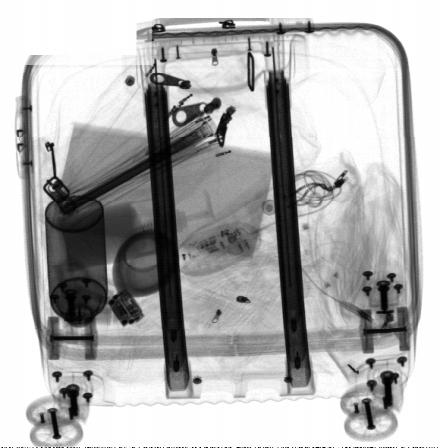Sprayer: (45, 195, 109, 346)
